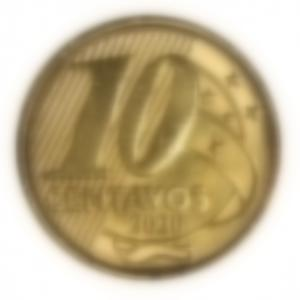10 cent: (14, 12, 280, 275)
